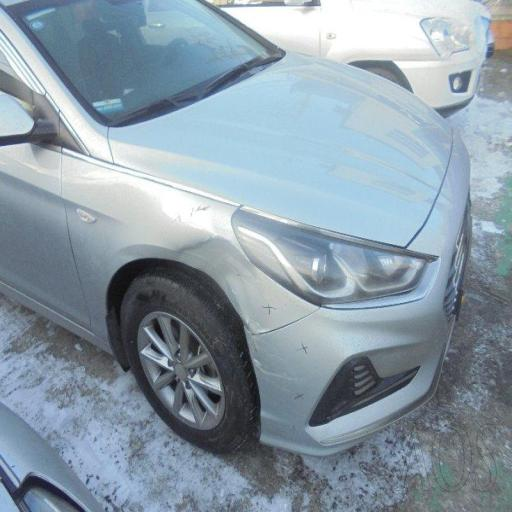dent: (139, 172, 349, 386)
